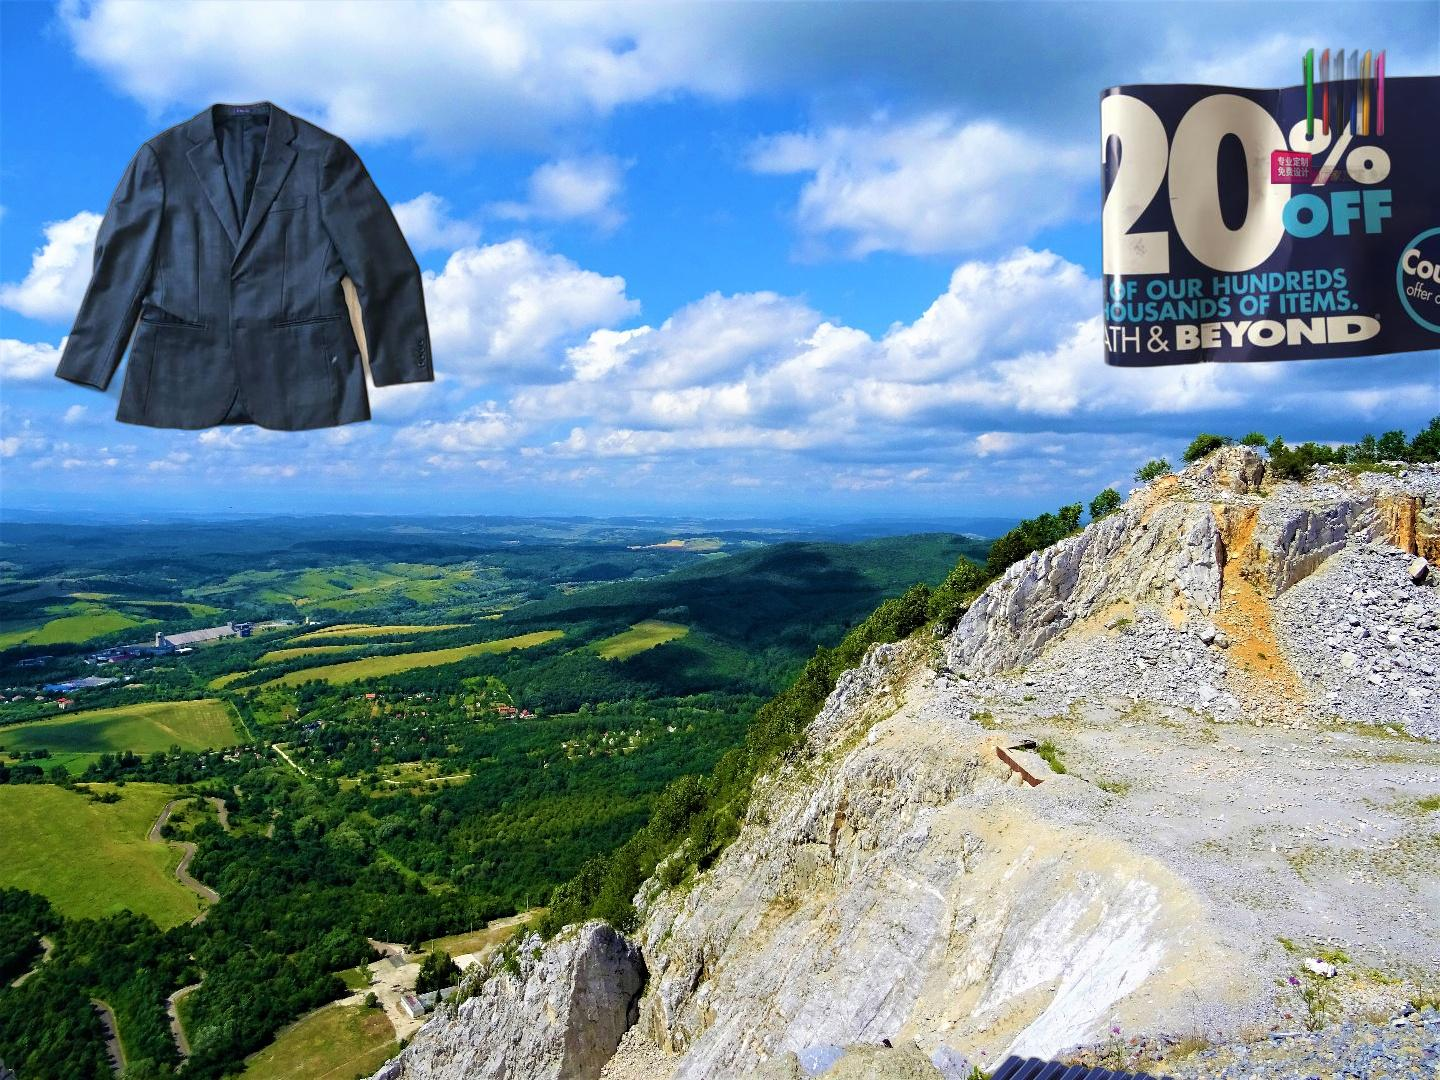clothes: (52, 98, 437, 436)
paper: (1096, 67, 1440, 371)
penholder: (1271, 34, 1421, 184), (747, 1051, 1238, 1080)
